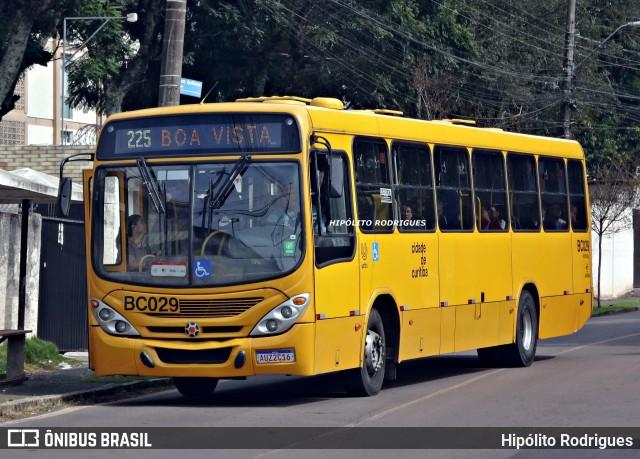BOA VISTA: (157, 122, 276, 149)
